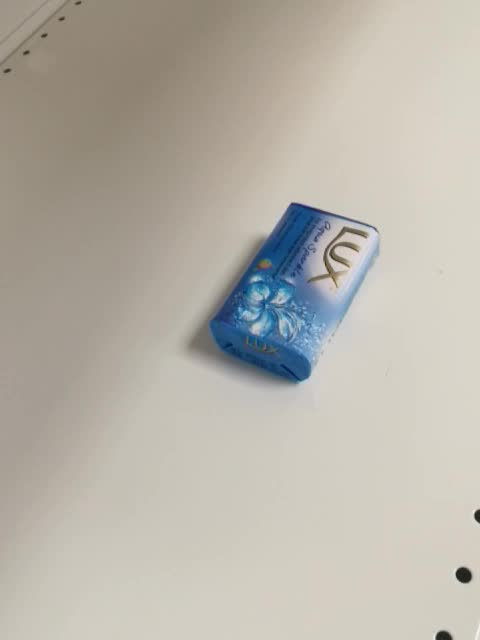soap: (207, 201, 381, 382)
